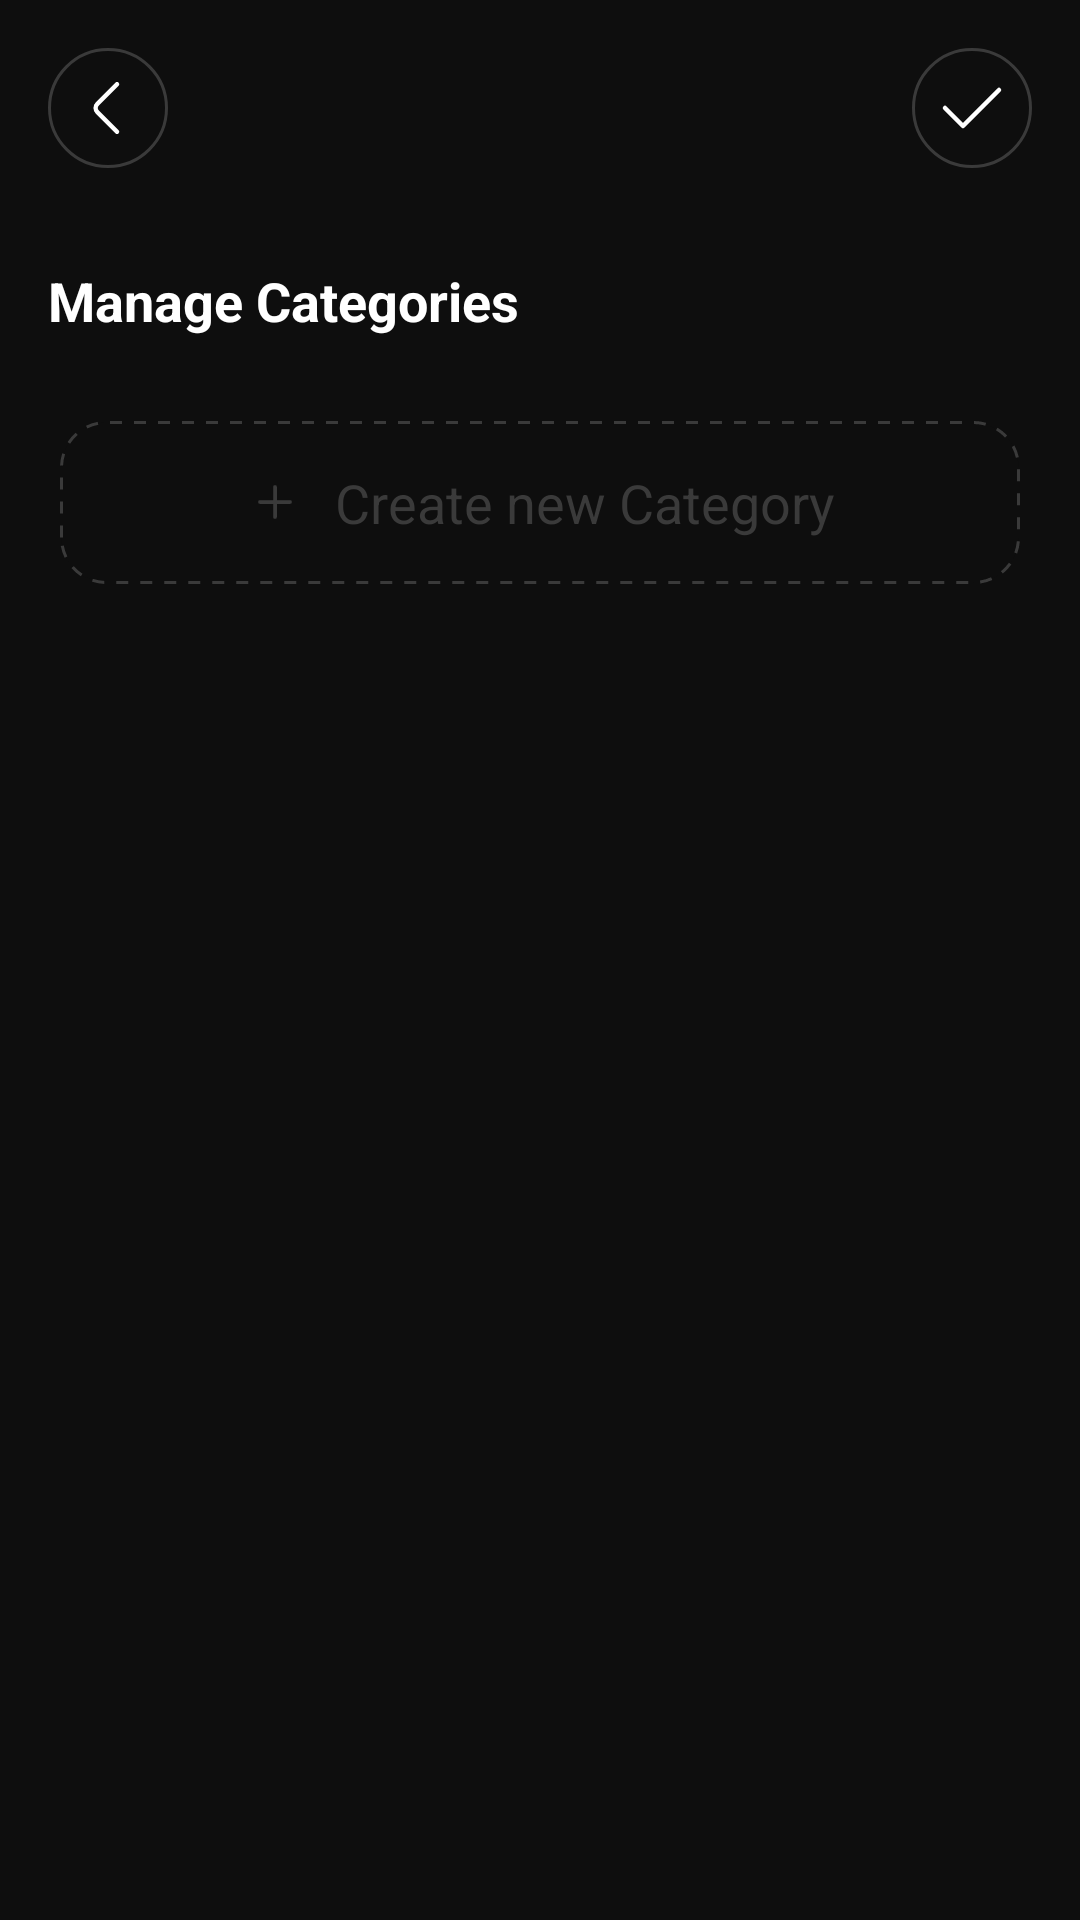

Icon bounding boxes for this 1080×1920 phone screenshot, format (x1, y1, x2, y2):
arrow back: (48, 48, 168, 168)
check: (912, 48, 1032, 168)
plus: (258, 485, 292, 519)
